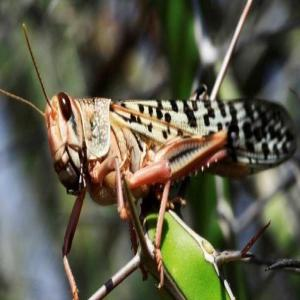locust: (33, 64, 300, 263)
